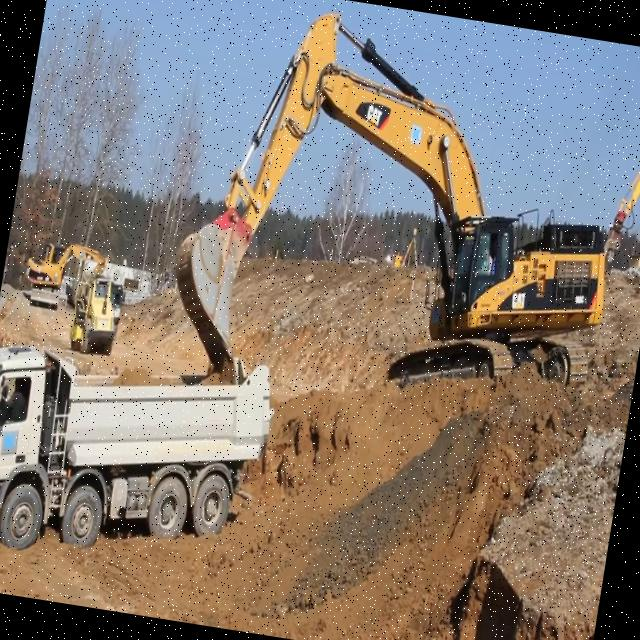Dump Truck: (0, 317, 282, 587), (100, 278, 128, 336)
Excavator: (159, 0, 640, 432), (19, 235, 111, 316), (599, 136, 640, 274)
Roller: (66, 271, 122, 357)
